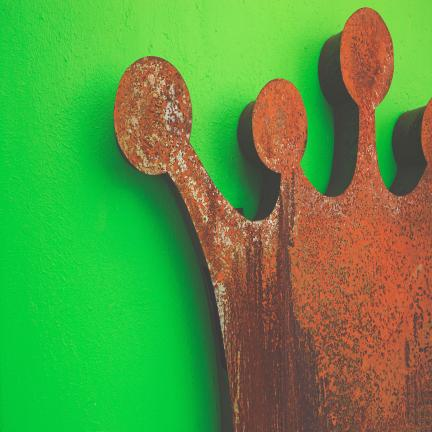karat: (114, 8, 431, 431)
